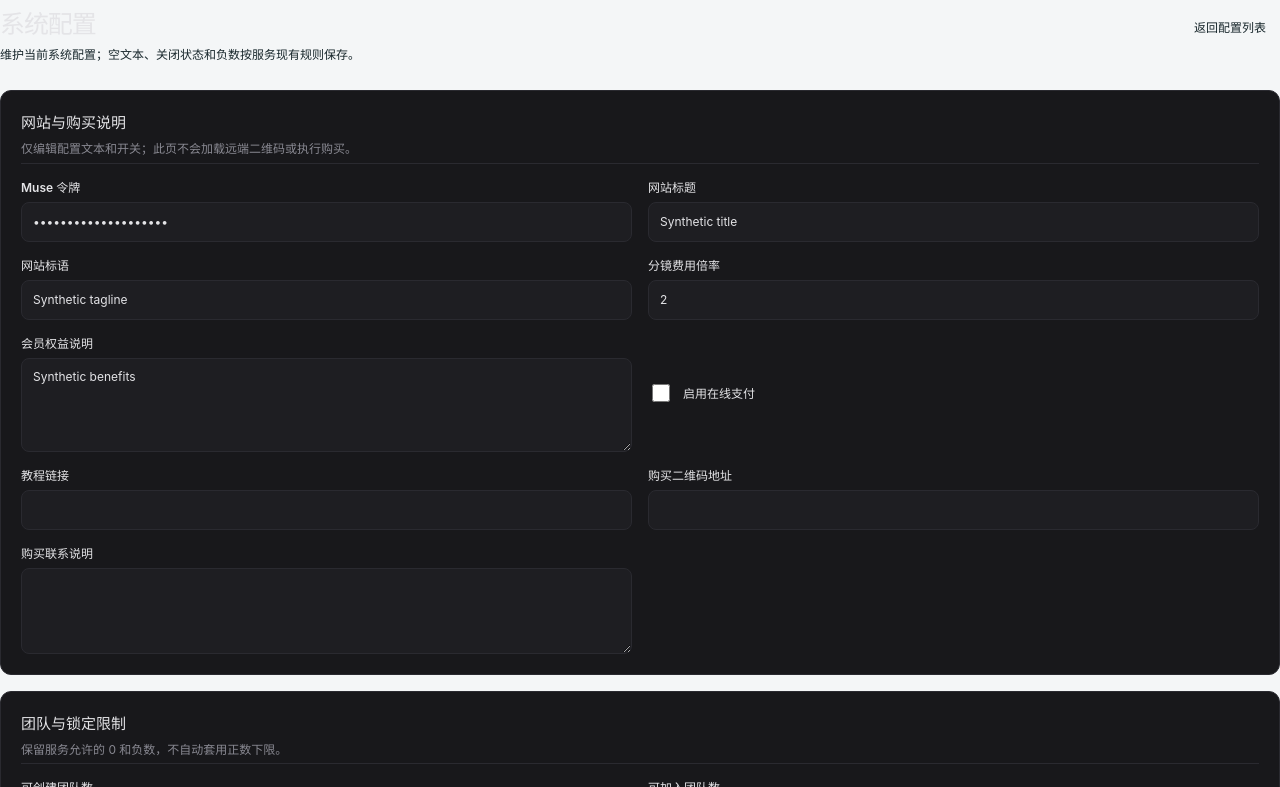
it: admin system config editor › keeps the submitted draft and exit guard when a matching-ID 200 does not apply the patch
This screenshot has width=1280, height=787.
Step 1. Replace the text in the field labelled "网站标题" with "Submitted title" → (954, 222), box [648,202,1259,242]
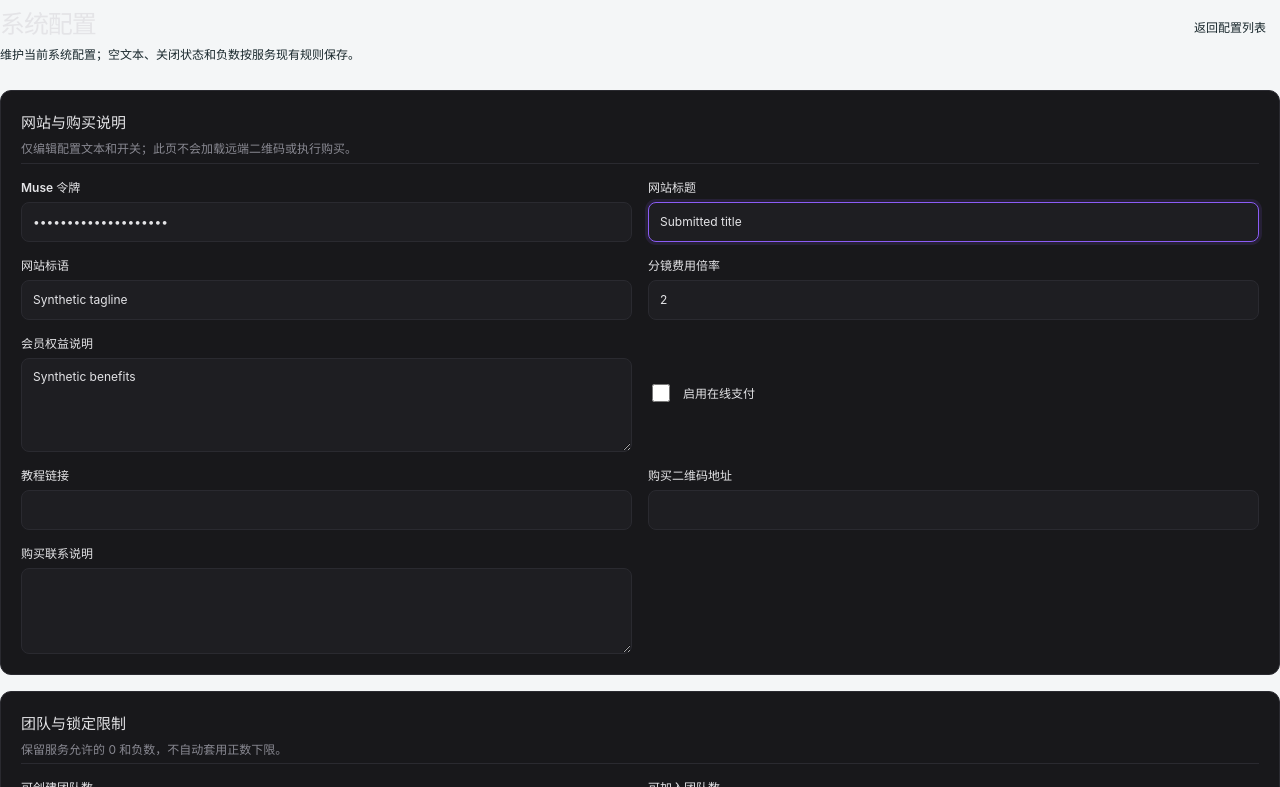
Step 2. Click the checkbox labelled "启用在线支付" → (661, 393), box [652,384,670,402]
(page scrolled)
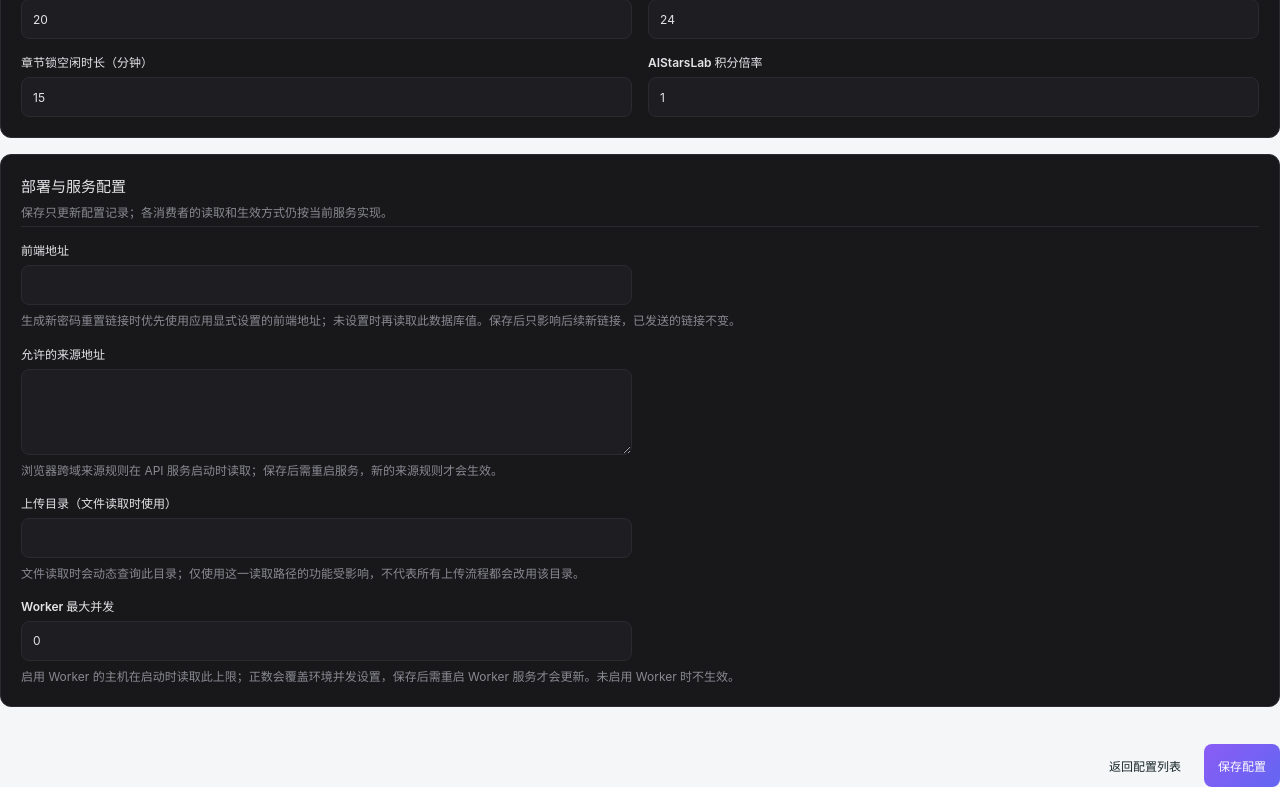
Step 3. Click the button "保存配置" → (1242, 766), box [1204,744,1279,786]
(page scrolled)
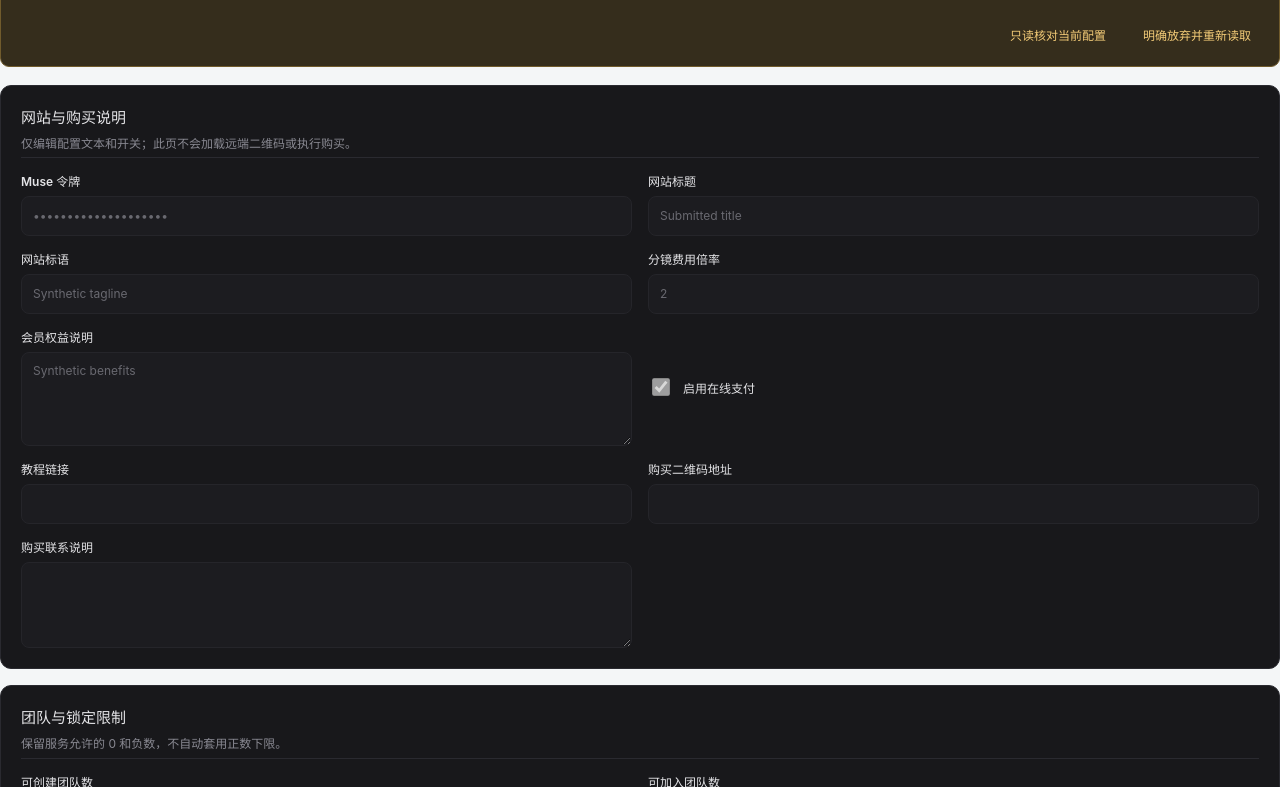
Now the checkbox labelled "启用在线支付" is checked, box [652,378,670,396]
Now the field labelled "网站标题" is disabled, box [648,196,1259,236]
Now the checkbox labelled "启用在线支付" is disabled, box [652,378,670,396]
